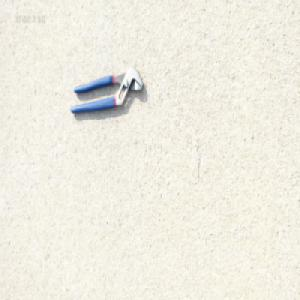Pliers: (69, 65, 144, 116)
